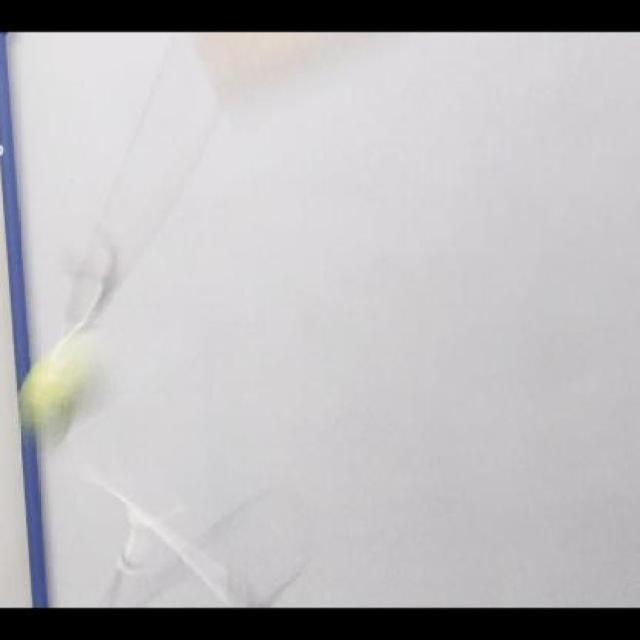baseball: (17, 348, 95, 446)
